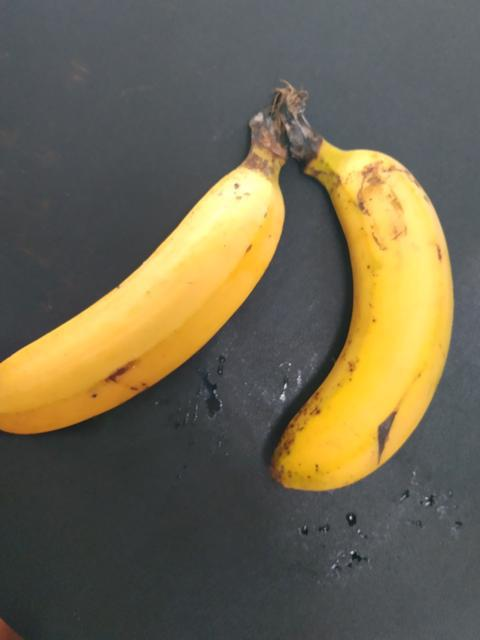freshripe: (0, 169, 301, 448)
ripe: (270, 149, 451, 505)
